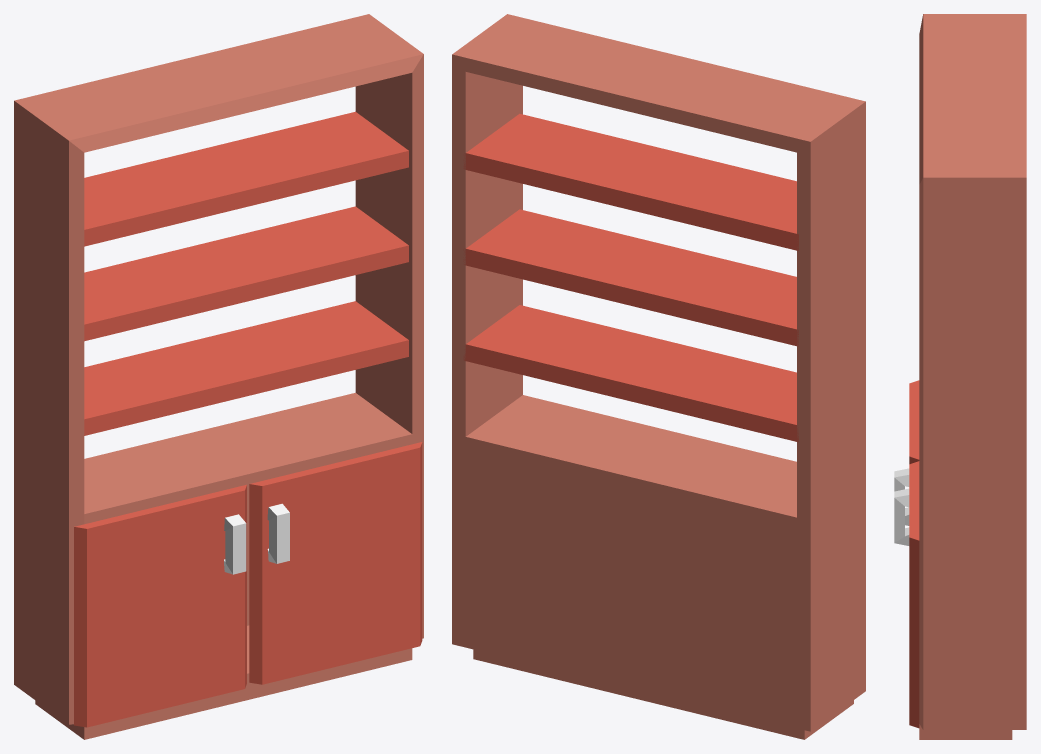
Rendered from shelf1.fbx.
3 views of the same model, side by side, from view 1: azimuth 30°, elevation 25°; view 2: azimuth 150°, elevation 25°; view 3: azimuth 270°, elevation 25° (orthographic). The views are drawn at different scales.
Parts seen in each view (by area): view 1: shelf1; view 2: shelf1; view 3: shelf1.
Part boxes in pixels (x1,y1,x2,y2): shelf1: [14, 14, 423, 739]; shelf1: [452, 14, 865, 739]; shelf1: [894, 14, 1026, 739].
Size of the model in its own units: 139 by 225 by 47.43.
Materials: 1 (1 with a texture image).
